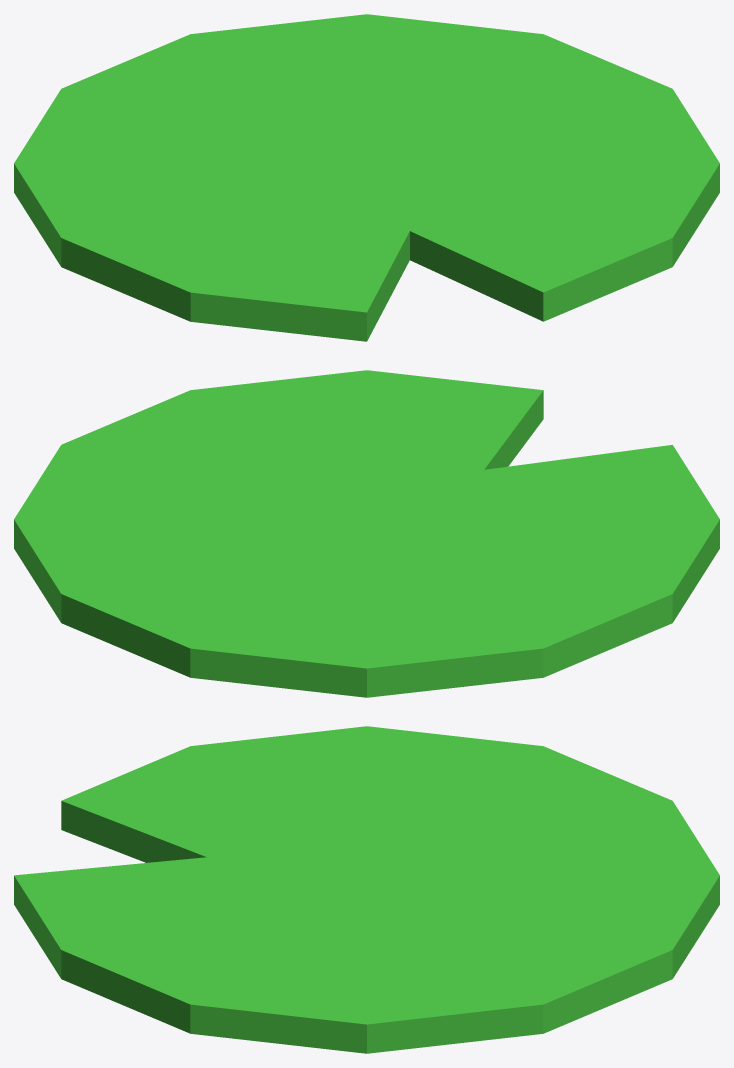
The model's file is LilyPad.fbx.
3 views of the same model, one above another, from view 1: azimuth 30°, elevation 25°; view 2: azimuth 150°, elevation 25°; view 3: azimuth 270°, elevation 25° (orthographic).
Parts seen in each view (by area): view 1: Circle.002; view 2: Circle.002; view 3: Circle.002.
Part boxes in pixels (box(x1,y1,x2,y2)): Circle.002: box(14, 14, 719, 341); Circle.002: box(14, 370, 719, 697); Circle.002: box(14, 726, 719, 1053).
Bounding box in the file's own units: 8.08 × 0.369 × 8.08.
